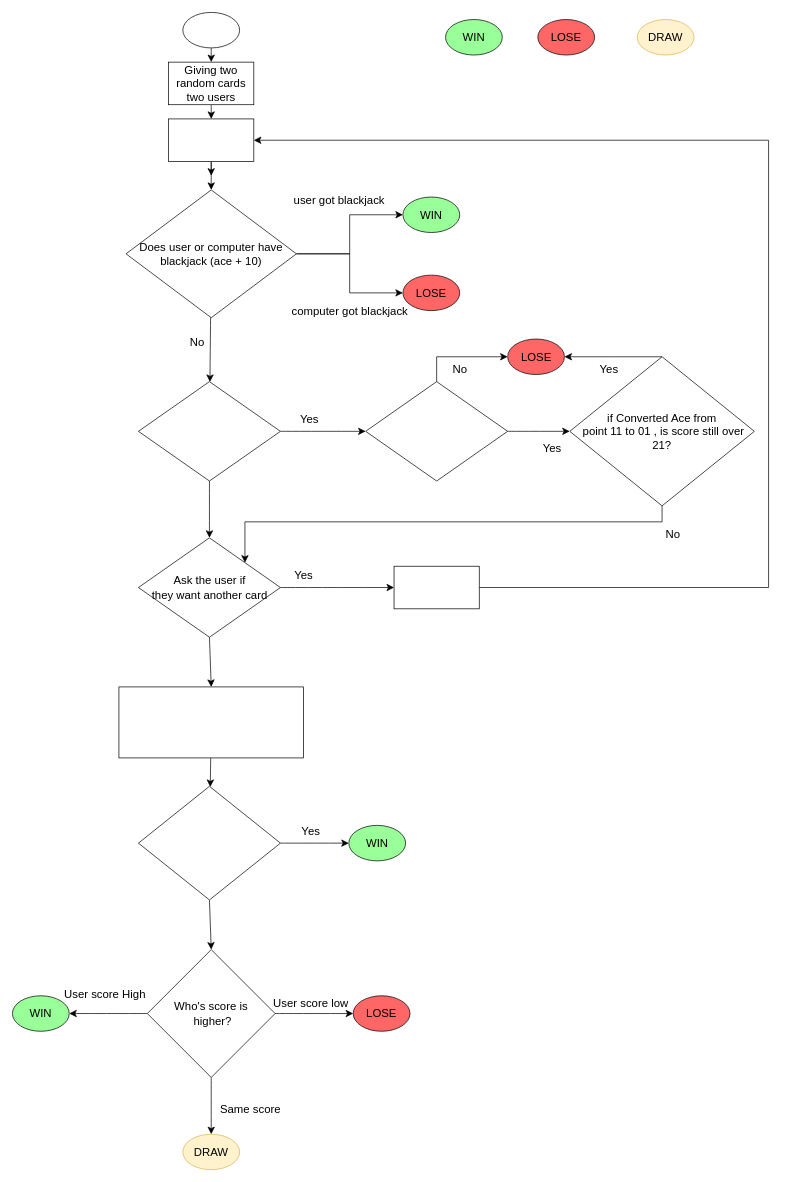
Image size: 788x1182. Some labels were removed from this diagram. The shapes that lost their labels are listed below. From the top down, each one's centre as x and y in pixels, then its label:
At (x=211, y=30): "Start".
At (x=211, y=140): "Calculate their total score".
At (x=209, y=431): "Is user's score over 21 ?".
At (x=436, y=431): "Do they have (Ace) ?".
At (x=436, y=587): "Draw another Card".
At (x=211, y=722): "Computer plays, if score is less than 17 , keep drawing cards".
At (x=209, y=843): "Has computer went over 21?".
